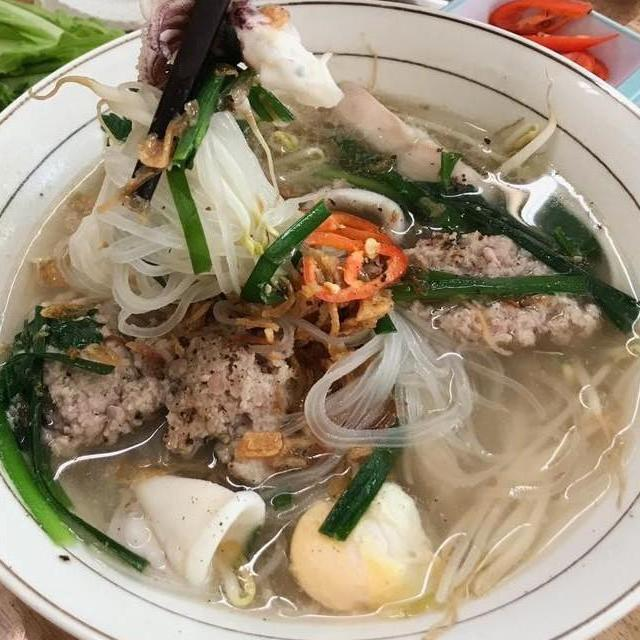banh hu tieu: (295, 300, 640, 616), (38, 72, 323, 353)
hu tieu: (0, 21, 640, 640)
muc: (127, 0, 356, 118), (96, 470, 278, 602)
thit bam: (26, 296, 300, 487), (388, 216, 612, 363)
